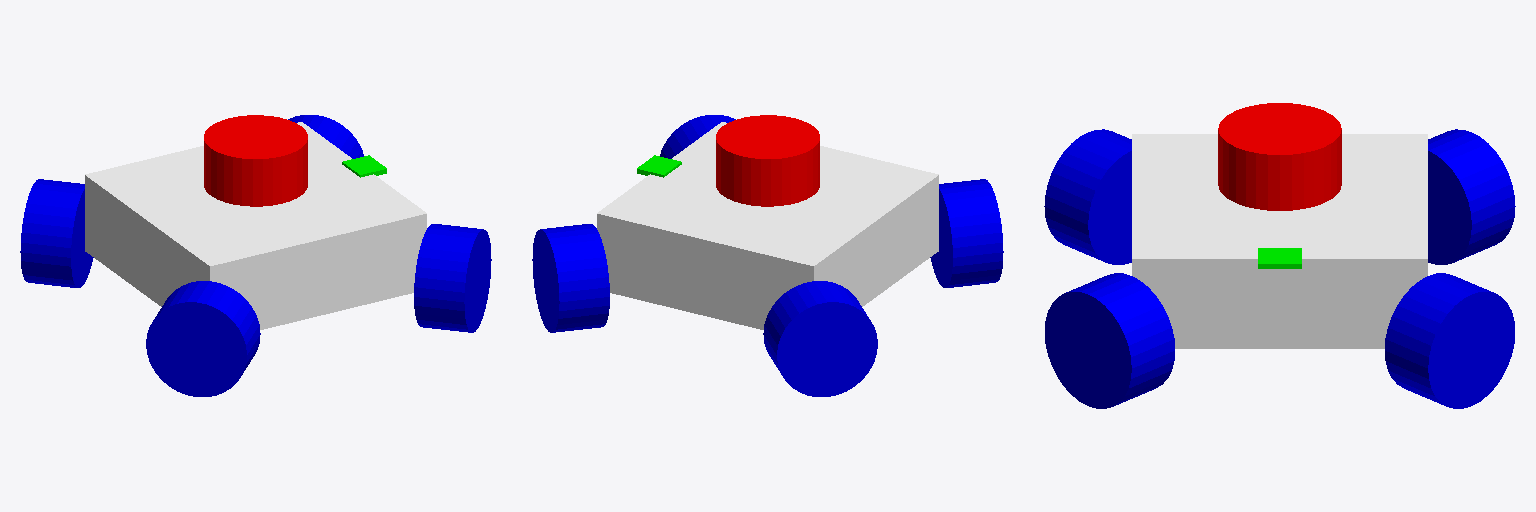
The robot description file, URDF, robot "roboto":
<?xml version="1.0" ?>

<robot name="roboto">
  
  <gazebo reference="body_material">
    <material>Gazebo/Blue</material>
  </gazebo>
  <gazebo reference="lidar_material">
    <material>Gazebo/Red</material>
  </gazebo>
  <gazebo reference="wheel_1_link">
    <material>Gazebo/Blue</material>
  </gazebo>
  <gazebo reference="wheel_2_link">
    <material>Gazebo/Blue</material>
  </gazebo>
  <gazebo reference="wheel_3_link">
    <material>Gazebo/Blue</material>
  </gazebo>
  <gazebo reference="wheel_4_link">
    <material>Gazebo/Blue</material>
  </gazebo>

  <gazebo>
    <plugin filename="libgazebo_ros_joint_state_publisher.so" name="gazebo_ros_joint_state_publisher">
      <update_rate>20</update_rate>
      <joint_name>wheel_1_joint</joint_name>
      <joint_name>wheel_2_joint</joint_name>
      <joint_name>wheel_3_joint</joint_name>
      <joint_name>wheel_4_joint</joint_name>
      <joint_name>base_link_to_base</joint_name>
    </plugin>
  </gazebo>
  

  <gazebo reference="lidar">
    <material>Gazebo/Red</material>
    <sensor name="laser" type="ray">
      <pose> 0 0 0 0 0 0 </pose>
      <visualize>true</visualize>
      <update_rate>10</update_rate>
      <ray>
        <scan>
          <horizontal>
            <samples>360</samples>
            <min_angle>-3.14</min_angle>
            <max_angle>3.14</max_angle>
          </horizontal>
        </scan>
        <range>
          <min>0.3</min>
          <max>10</max>
        </range>
      </ray>
      <plugin filename="libgazebo_ros_ray_sensor.so" name="laser_controller">
        <ros>
          <argument>~/out:=scan</argument>
        </ros>
        <output_type>sensor_msgs/LaserScan</output_type>
        <frame_name>lidar</frame_name>
      </plugin>
    </sensor>
  </gazebo>


  <link name="base_link"/>
  <joint name="base_link_to_base" type="fixed">
    <parent link="base_link"/>
    <child link="body"/>
    <origin rpy="0.0 0 0" xyz="0 0 0"/>
  </joint>

  <link name="body">
    <visual>
      <origin rpy="0 0 0" xyz="0 0 0.04015 "/>
      <geometry>
        <box size="0.24 0.24 0.0803"/>
      </geometry>
      <material name="body_material">
        <color rgba="1 1 1 1"/>
      </material>
    </visual>
    <collision>
      <origin rpy="0 0 0" xyz="0 0 0.04015 "/>
      <geometry>
        <box size="0.24 0.24 0.0803"/>
      </geometry>
    </collision>
    <inertial>
      <origin rpy="0 0 0" xyz="7.5852948383348459831e-18 -3.1462464847398053861e-18 0.032701962545988359776"/>
      <mass value="2.4836529330259353721"/>
      <inertia ixx="0.01624744761710187127" ixy="-3.8460366714088691554e-34" ixz="1.2863509869914569804e-18" iyy="0.01624744761710187127" iyz="6.431754934957284902e-19" izz="0.023711533526485202572"/>
    </inertial>
  </link>

  <joint name="body_to_front" type="fixed">
    <parent link="body"/>
    <child link="front"/>
    <origin rpy="0.0 0 0" xyz="0.12 0 0.0803"/>
  </joint>

  <link name="front">
    <visual>
      <origin rpy="0 0 0" xyz="0.0 0 0 "/>
      <geometry>
        <box size="0.03 0.035 0.005"/>
      </geometry>
      <material name="front_material">
        <color rgba="0 1 0 1"/>
      </material>
    </visual>
    <collision>
      <origin rpy="0 0 0" xyz="0 0 0 "/>
      <geometry>
        <box size="0.03 0.035 0.005"/>
      </geometry>
    </collision>
  </link>

  <joint name="body_to_support" type="fixed">
    <parent link="body"/>
    <child link="support"/>
    <origin rpy="0.0 0 0" xyz="0 0 0.0803"/>
  </joint>

  <link name="support">
    <visual>
      <origin rpy="0 0 0" xyz="0 0 0.01 "/>
      <geometry>
        <box size="0.04 0.04 0.02"/>
      </geometry>
      <material name="body_material">
        <color rgba="1 1 1 1"/>
      </material>
    </visual>
    <collision>
      <origin rpy="0 0 0" xyz="0 0 0 "/>
      <geometry>
        <box size="0.04 0.04 0.02"/>
      </geometry>
    </collision>
  </link>

  <joint name="support_to_lidar" type="fixed">
    <parent link="support"/>
    <child link="lidar"/>
    <origin rpy="0 0 0" xyz="0 0 0.02"/>
  </joint>

  <link name="lidar">
    <visual>
      <origin rpy="0 0 0" xyz="0 0 0.015"/>
      <geometry>
        <cylinder length="0.05" radius="0.05"/>
      </geometry>
      <material name="lidar_material">
        <color rgba="1 0 0 1.0"/>
      </material>
    </visual>
    <collision>
      <origin rpy="0 0 0" xyz="0 0 0.015"/>
      <geometry>
        <cylinder length="0.05" radius="0.05"/>
      </geometry>
    </collision>
    <inertial>
      <mass value="0.1"/>
      <inertia ixx="0.005" ixy="0.0" ixz="0.0" iyy="0.005" iyz="0.0" izz="0.005"/>
    </inertial>
  </link>

  <link name="wheel_2_link">
    <visual>
      <origin rpy="0 0 0" xyz="0 0 -0.025"/>
      <geometry>
        <cylinder length="0.05" radius="0.05"/>
      </geometry>
      <material name="blue">
        <color rgba="0.0 0.0 1.0 1.0"/>
      </material>
    </visual>
    <collision>
      <origin rpy="0 0 0" xyz="0 0 -0.025"/>
      <geometry>
        <cylinder length="0.05" radius="0.05"/>
      </geometry>
      <surface>
        <friction>
          <ode>
            <mu>5.0</mu> <!-- Coefficient de friction dans la direction principale -->
            <mu2>0.01</mu2> <!-- Coefficient de friction dans la direction perpendiculaire -->
          </ode>
        </friction>
      </surface>
    </collision>
    <inertial>
      <mass value="1.0"/>
      <inertia ixx="0.005" ixy="0.0" ixz="0.0" iyy="0.005" iyz="0.0" izz="0.005"/>
    </inertial>
  </link>

  <joint name="wheel_2_joint" type="continuous">
    <parent link="body"/>
    <child link="wheel_2_link"/>
    <origin rpy="1.5707963267948966 0 -0.7853981633974483" xyz="0.12 0.12 0.015"/>
    <axis xyz=" 0 0 1"/>
  </joint>

  <link name="wheel_1_link">
    <visual>
      <origin rpy="0 0 0" xyz="0 0 -0.025"/>
      <geometry>
        <cylinder length="0.05" radius="0.05"/>
      </geometry>
      <material name="blue">
        <color rgba="0.0 0.0 1.0 1.0"/>
      </material>
    </visual>
    <collision>
      <origin rpy="0 0 0" xyz="0 0 -0.025"/>
      <geometry>
        <cylinder length="0.05" radius="0.05"/>
      </geometry>
      <surface>
        <friction>
          <ode>
            <mu>5.0</mu><!-- Coefficient de friction dans la direction principale -->  
            <mu2>0.01</mu2><!-- Coefficient de friction dans la direction perpendiculaire -->
            
          </ode>
        </friction>
      </surface>
    </collision>
    <inertial>
      <mass value="1.0"/>
      <inertia ixx="0.005" ixy="0.0" ixz="0.0" iyy="0.005" iyz="0.0" izz="0.005"/>
    </inertial>
  </link>

  <joint name="wheel_1_joint" type="continuous">
    <parent link="body"/>
    <child link="wheel_1_link"/>
    <origin rpy="1.5707963267948966  0 -2.356194490192345" xyz="0.12 -0.12 0.015"/>
    <axis xyz=" 0 0 1"/>
  </joint>

  <link name="wheel_4_link">
    <visual>
      <origin rpy="0 0 0" xyz="0 0 -0.025"/>
      <geometry>
        <cylinder length="0.05" radius="0.05"/>
      </geometry>
      <material name="blue">
        <color rgba="0.0 0.0 1.0 1.0"/>
      </material>
    </visual>
    <collision>
      <origin rpy="0 0 0" xyz="0 0 -0.025"/>
      <geometry>
        <cylinder length="0.05" radius="0.05"/>
      </geometry>
      <surface>
        <friction>
          <ode>
            <mu>5.0</mu>
            <!-- Coefficient de friction dans la direction principale -->
            <mu2>0.01</mu2>
            <!-- Coefficient de friction dans la direction perpendiculaire -->
          </ode>
        </friction>
      </surface>
    </collision>
    <inertial>
      <mass value="1.0"/>
      <inertia ixx="0.005" ixy="0.0" ixz="0.0" iyy="0.005" iyz="0.0" izz="0.005"/>
    </inertial>
  </link>

  <joint name="wheel_4_joint" type="continuous">
    <parent link="body"/>
    <child link="wheel_4_link"/>
    <origin rpy="1.5707963267948966  0  2.356194490192345" xyz="-0.12 -0.12 0.015"/>
    <axis xyz=" 0 0 1"/>
  </joint>

  <link name="wheel_3_link">
    <visual>
      <origin rpy="0 0 0" xyz="0 0 -0.025"/>
      <geometry>
        <cylinder length="0.05" radius="0.05"/>
      </geometry>
      <material name="blue">
        <color rgba="0.0 0.0 1.0 1.0"/>
      </material>
    </visual>
    <collision>
      <origin rpy="0 0 0" xyz="0 0 -0.025"/>
      <geometry>
        <cylinder length="0.05" radius="0.05"/>
      </geometry>
      <surface>
        <friction>
          <ode>
            <mu>5.0</mu>
            <!-- Coefficient de friction dans la direction principale -->
            <mu2>0.01</mu2>
            <!-- Coefficient de friction dans la direction perpendiculaire -->
          </ode>
        </friction>
      </surface>
    </collision>
    <inertial>
      <mass value="1.0"/>
      <inertia ixx="0.005" ixy="0.0" ixz="0.0" iyy="0.005" iyz="0.0" izz="0.005"/>
    </inertial>
  </link>

  <joint name="wheel_3_joint" type="continuous">
    <parent link="body"/>
    <child link="wheel_3_link"/>
    <origin rpy="1.5707963267948966  0 0.7853981633974483" xyz="-0.12 0.12 0.015"/>
    <axis xyz=" 0 0 1"/>
  </joint>



  
  <ros2_control name="gazebo_control" type="system">
    <hardware>
      <plugin>gazebo_ros2_control/GazeboSystem</plugin>
    </hardware>
    
    <joint name="wheel_1_joint">
      <command_interface name="velocity"/>
      <param name="min">-1000</param>
      <param name="max">1000</param>
      <state_interface name="velocity"/>
      <state_interface name="position"/>
    </joint>
    <joint name="wheel_2_joint">
      <command_interface name="velocity"/>
      <param name="min">-1000</param>
      <param name="max">1000</param>
      <state_interface name="velocity"/>
      <state_interface name="position"/>
    </joint>
    <joint name="wheel_3_joint">
      <command_interface name="velocity"/>
      <param name="min">-1000</param>
      <param name="max">1000</param>
      <state_interface name="velocity"/>
      <state_interface name="position"/>
    </joint>
    <joint name="wheel_4_joint">
      <command_interface name="velocity"/>
      <param name="min">-1000</param>
      <param name="max">1000</param>
      <state_interface name="velocity"/>
      <state_interface name="position"/>
    </joint>
  </ros2_control>
  
  
  <gazebo>
    <plugin filename="libgazebo_ros2_control.so" name="gazebo_ros2_control">
      <parameters>[local-path]/ros_ws/install/roboto/share/roboto/config/my_controllers.yaml</parameters>
    </plugin>
  </gazebo>
</robot>

--- What the picture shows (computed from the rendered views, not written in the file) ---
The picture shows the robot from 3 angles, left to right: view 1: azimuth 30°, elevation 25°; view 2: azimuth 150°, elevation 25°; view 3: azimuth 270°, elevation 25°; orthographic projection.
Model roboto with 9 links and 8 joints (4 continuous, 4 fixed), rooted at base_link, posed all joints at 0.
Links seen in each view (by area): view 1: body, wheel_4_link, lidar, wheel_1_link, wheel_3_link, wheel_2_link, front; view 2: body, wheel_3_link, lidar, wheel_2_link, wheel_4_link, wheel_1_link, front; view 3: body, wheel_2_link, wheel_1_link, lidar, wheel_4_link, wheel_3_link, front.
Boxes of the visible links, bbox=[...] form: body: bbox=[85, 122, 426, 329]; wheel_4_link: bbox=[146, 281, 260, 396]; lidar: bbox=[204, 115, 307, 206]; wheel_1_link: bbox=[414, 224, 491, 332]; wheel_3_link: bbox=[20, 179, 93, 287]; wheel_2_link: bbox=[288, 115, 363, 158]; front: bbox=[342, 155, 386, 177]; body: bbox=[597, 122, 938, 329]; wheel_3_link: bbox=[763, 281, 877, 396]; lidar: bbox=[716, 115, 819, 206]; wheel_2_link: bbox=[532, 224, 609, 332]; wheel_4_link: bbox=[930, 179, 1003, 287]; wheel_1_link: bbox=[660, 115, 735, 158]; front: bbox=[637, 155, 681, 177]; body: bbox=[1132, 134, 1427, 348]; wheel_2_link: bbox=[1385, 273, 1514, 408]; wheel_1_link: bbox=[1045, 273, 1174, 408]; lidar: bbox=[1218, 103, 1341, 210]; wheel_4_link: bbox=[1044, 129, 1131, 264]; wheel_3_link: bbox=[1428, 129, 1515, 264]; front: bbox=[1258, 248, 1301, 268].
Size in the robot's own frame: 0.3814 by 0.3814 by 0.1753 metres.
Geometry: primitives only (box / cylinder / sphere), no mesh files.
